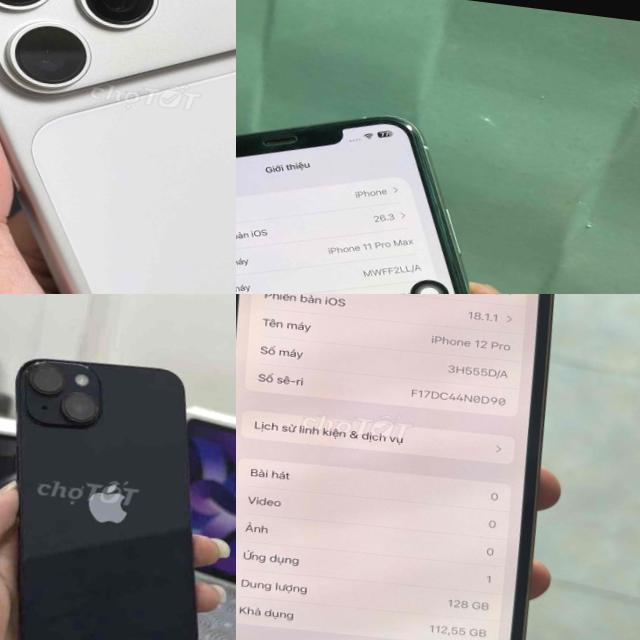gen_11: (236, 80, 605, 294)
gen_12_13: (236, 294, 581, 640)
gen_14: (0, 339, 236, 640)
gen_17: (0, 0, 236, 294)
